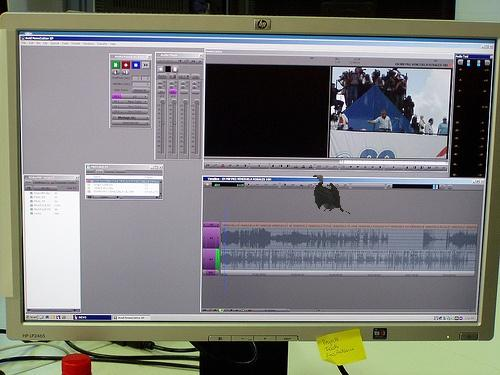tampered: (314, 176, 368, 214)
